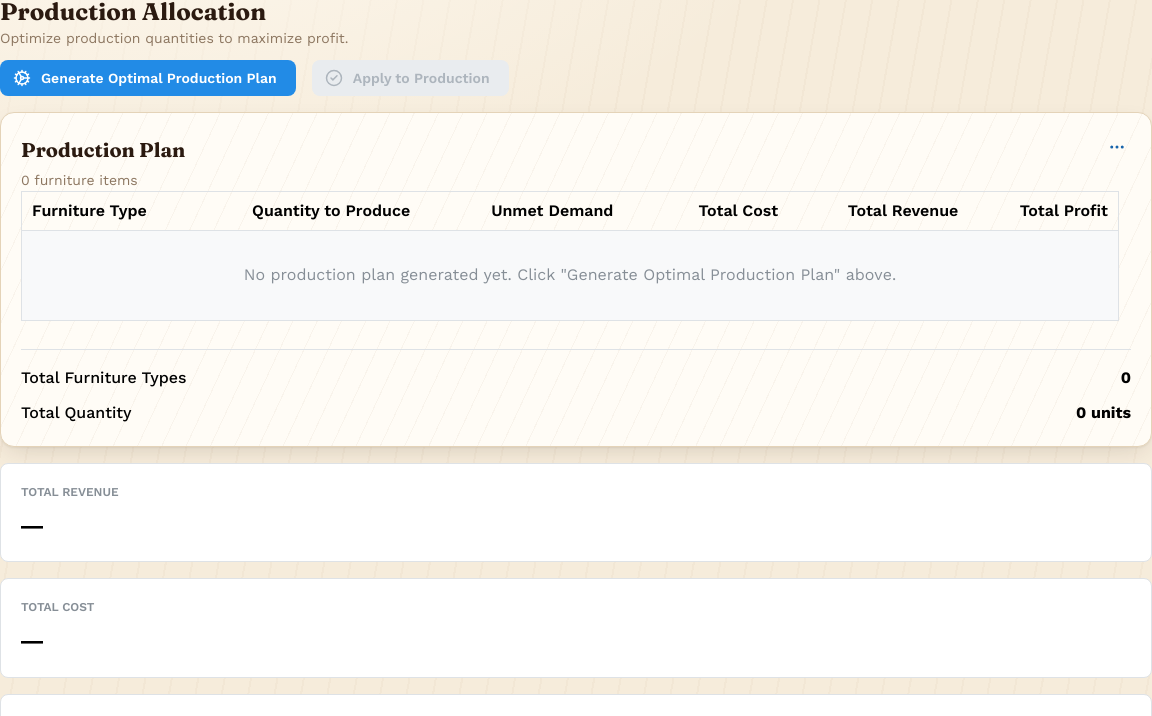
Test: ProductionAllocationPage generate mode modal › Cancel closes the modal without calling the API
Click the button "Generate Optimal Production Plan".
click(148, 78)  # box [0,60,296,96]
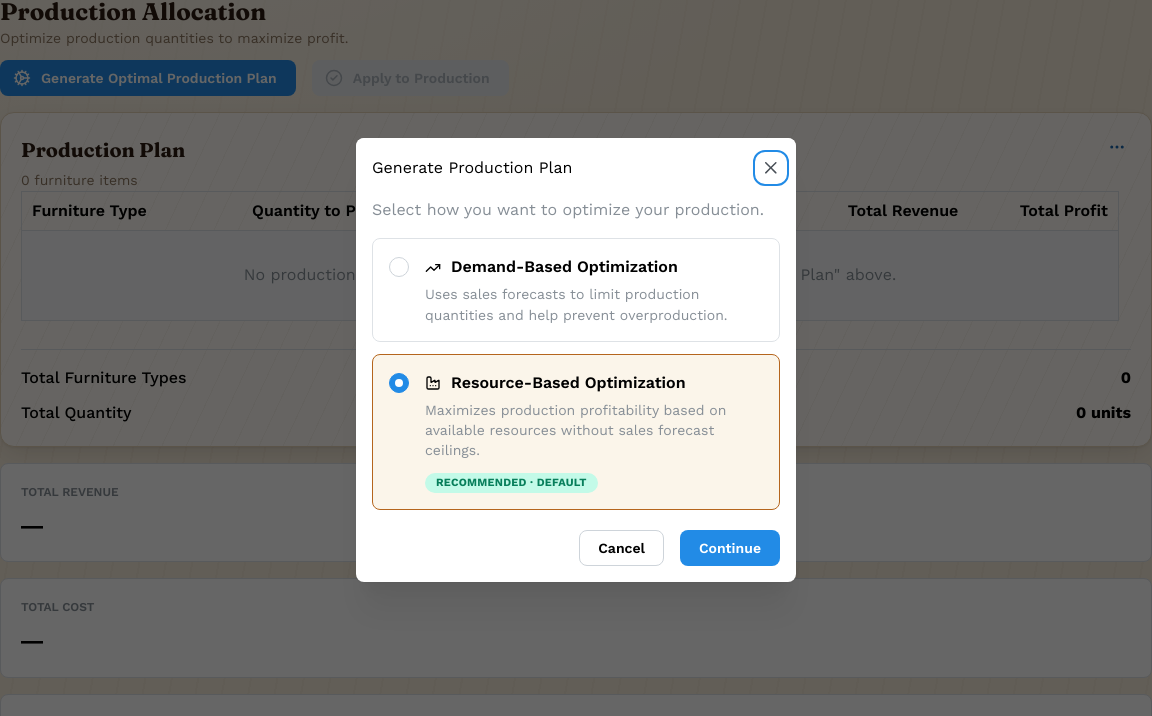
Result: the heading "Generate Production Plan" is shown at [372,160,572,176]
Click the radio button labelled "Demand-Based Optimization".
click(576, 290)  # box [372,238,780,342]
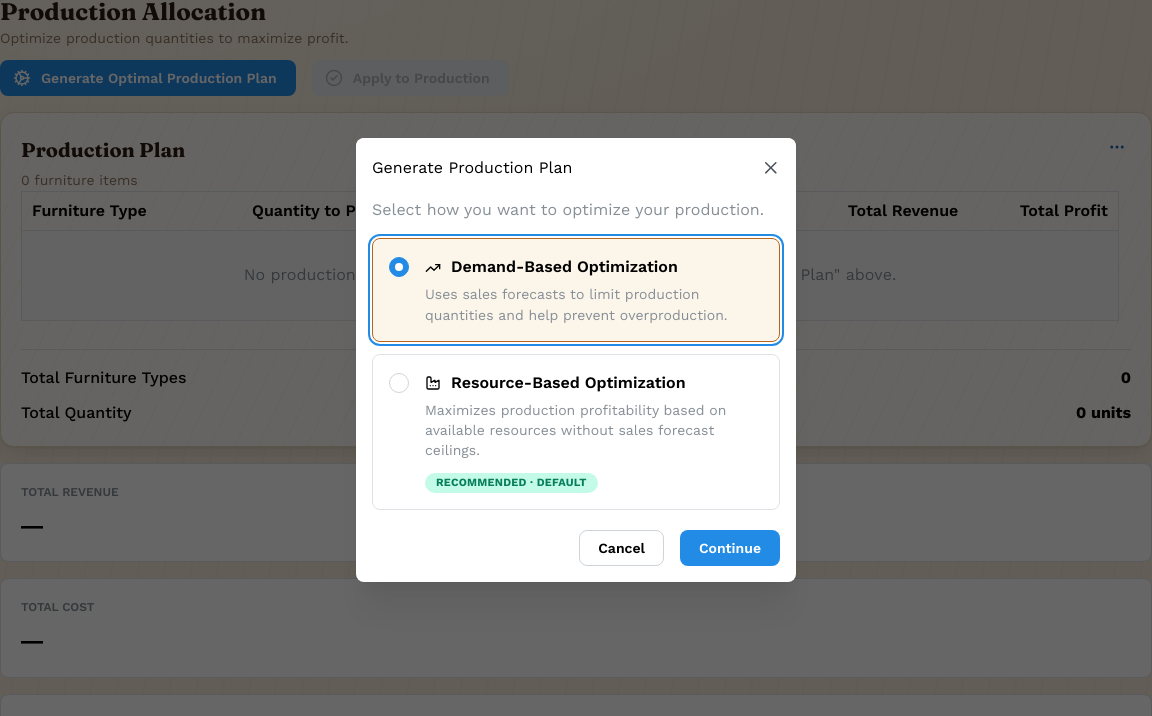
Click the button "Cancel".
click(622, 548)  # box [579,530,664,566]
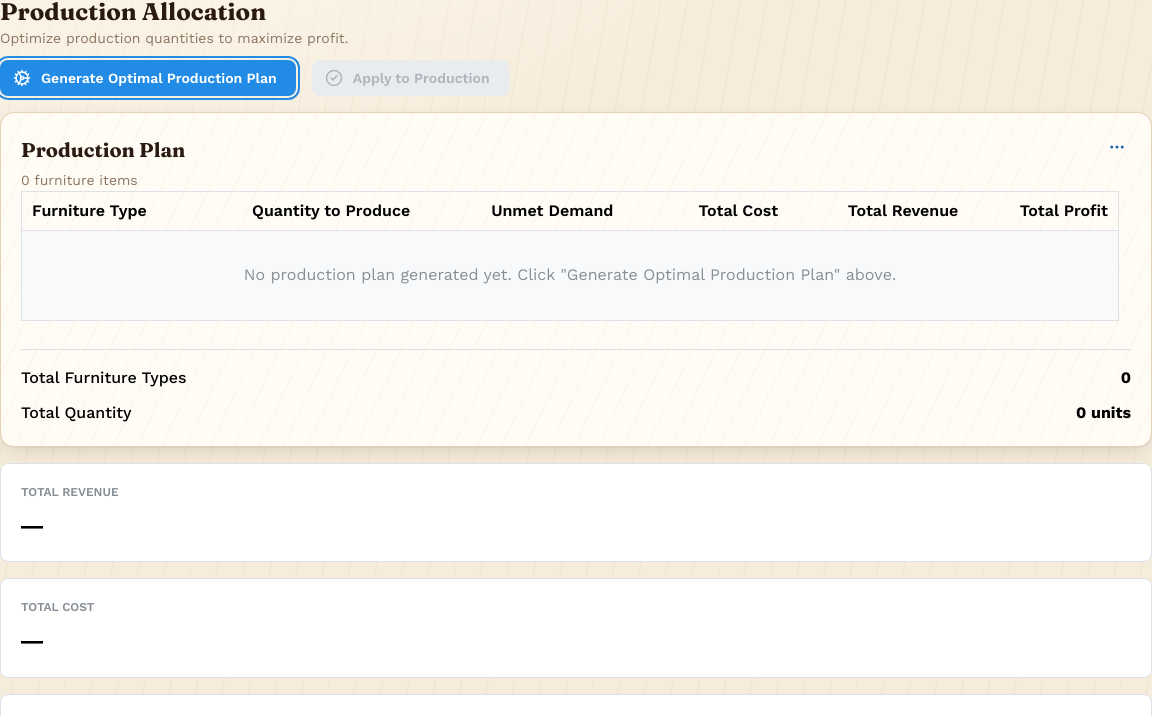
Result: the heading "Generate Production Plan" is gone
